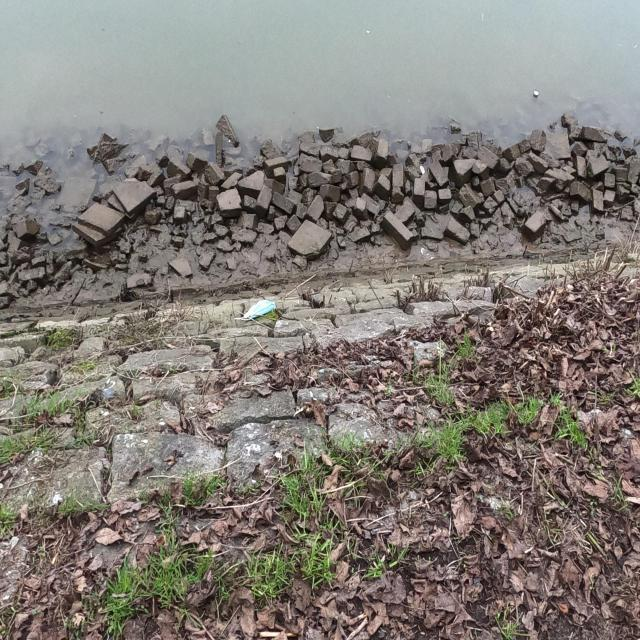Mask: (234, 299, 276, 321)
